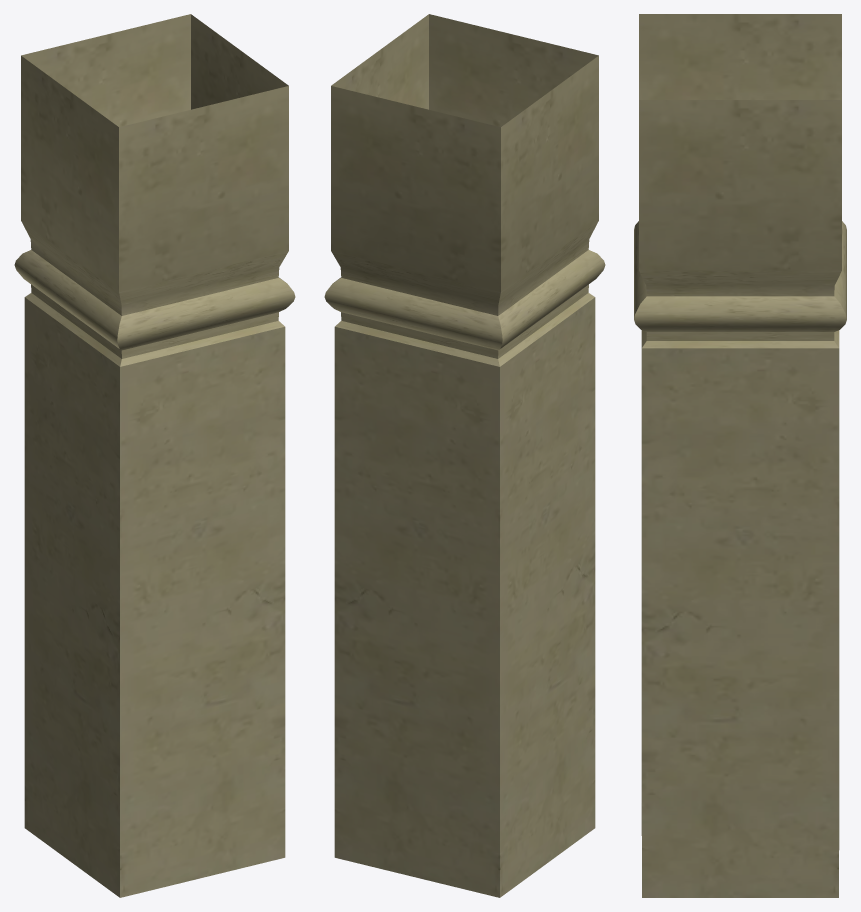
The model's file is Trim_Column_Top.glb.
3 renders of one model, left to right at view 1: azimuth 30°, elevation 25°; view 2: azimuth 150°, elevation 25°; view 3: azimuth 270°, elevation 25°, orthographic. The views are drawn at different scales.
Parts seen in each view (by area): view 1: Trim_Column_Top; view 2: Trim_Column_Top; view 3: Trim_Column_Top.
Part boxes in pixels (left/top/right/bottom): Trim_Column_Top: left=14, top=14, right=295, bottom=897; Trim_Column_Top: left=324, top=14, right=605, bottom=897; Trim_Column_Top: left=634, top=14, right=846, bottom=897.
Size of the model in its own units: 0.7242 by 3 by 0.7242.
Materials: 1 (1 with a texture image).
